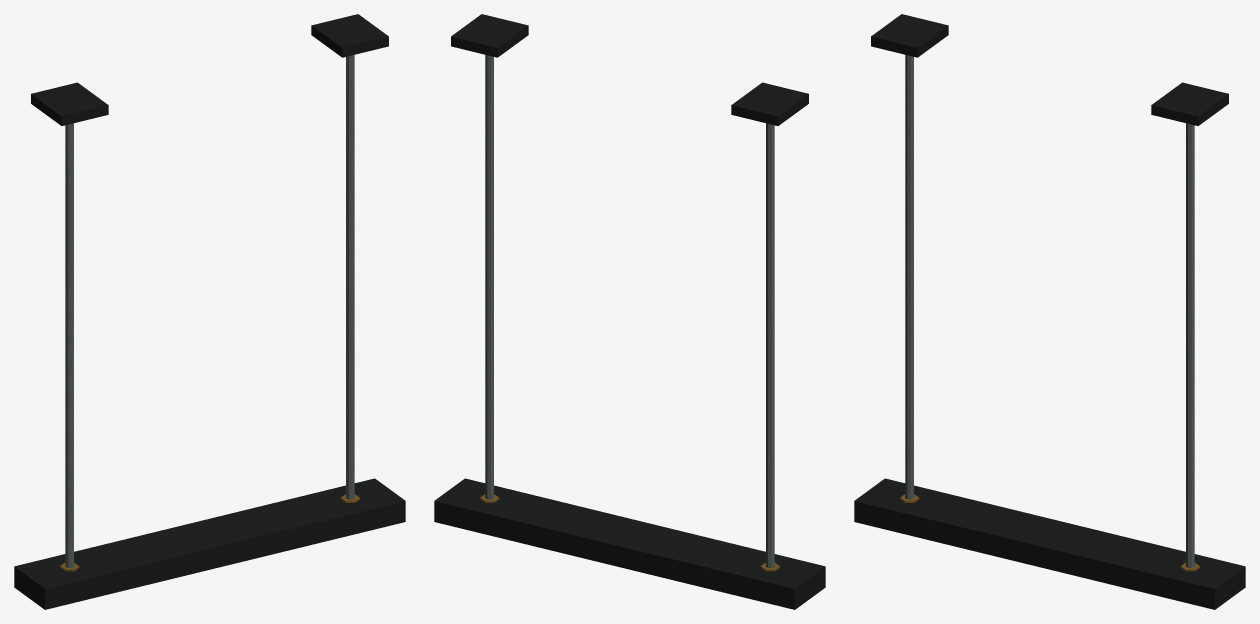
File: level_mill_suspension.glb
3 renders of one model, left to right at view 1: azimuth 30°, elevation 25°; view 2: azimuth 150°, elevation 25°; view 3: azimuth 330°, elevation 25°, orthographic.
Parts seen in each view (by area): view 1: level_mill_suspension; view 2: level_mill_suspension; view 3: level_mill_suspension.
Part boxes in pixels (x1,y1,x2,y2): level_mill_suspension: [14, 14, 405, 609]; level_mill_suspension: [434, 14, 825, 609]; level_mill_suspension: [854, 14, 1245, 609].
Size of the model in its own units: 1.08 by 1.4 by 0.16.
3 materials, 3 textured.
